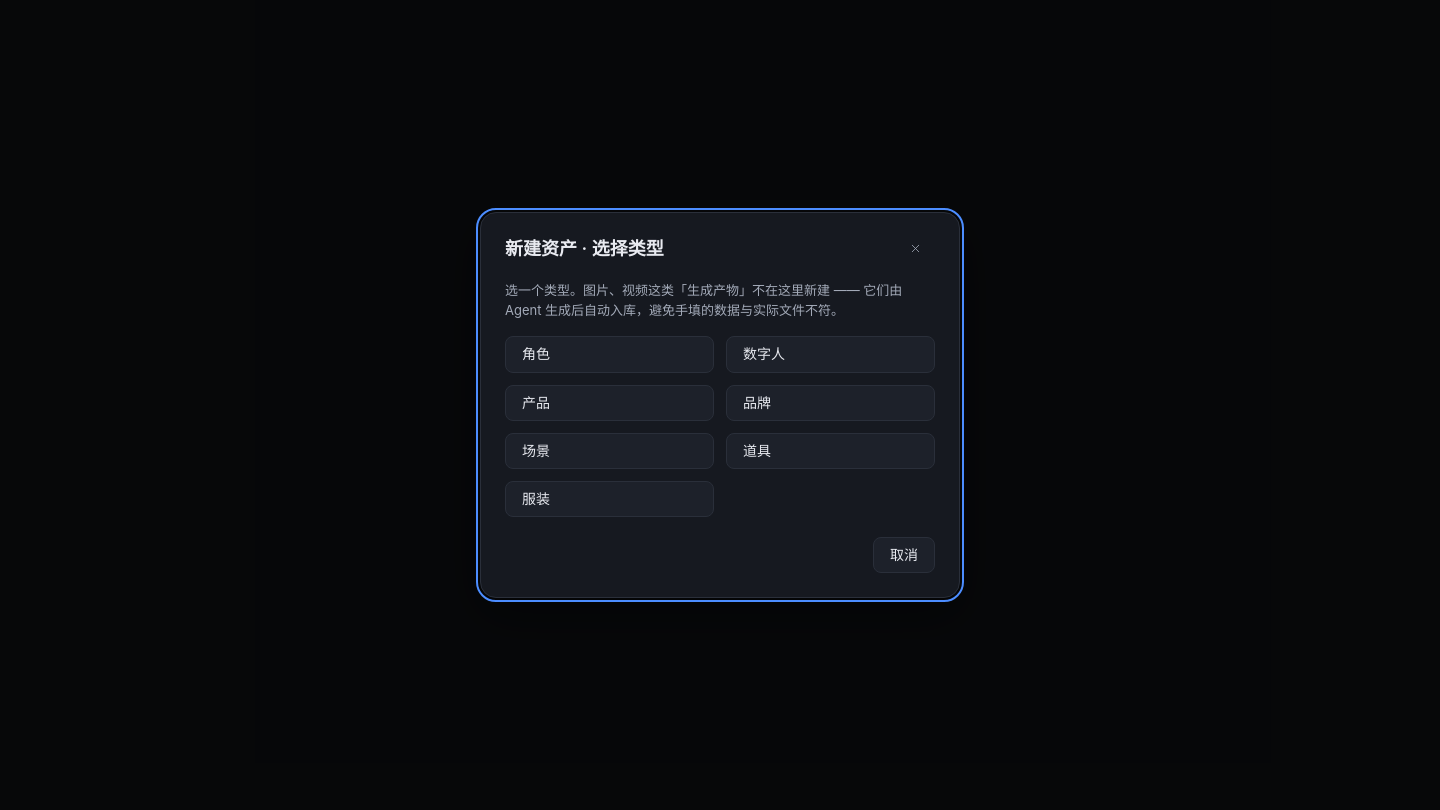
Scenario: AssetCreateDialog 的类型选择 › 选了类型才出现该类型的字段
The image size is (1440, 810).
Check: the field labelled "发型发色" is not shown
Click the button "角色": (610,354) [505,336,714,373]
(page scrolled)
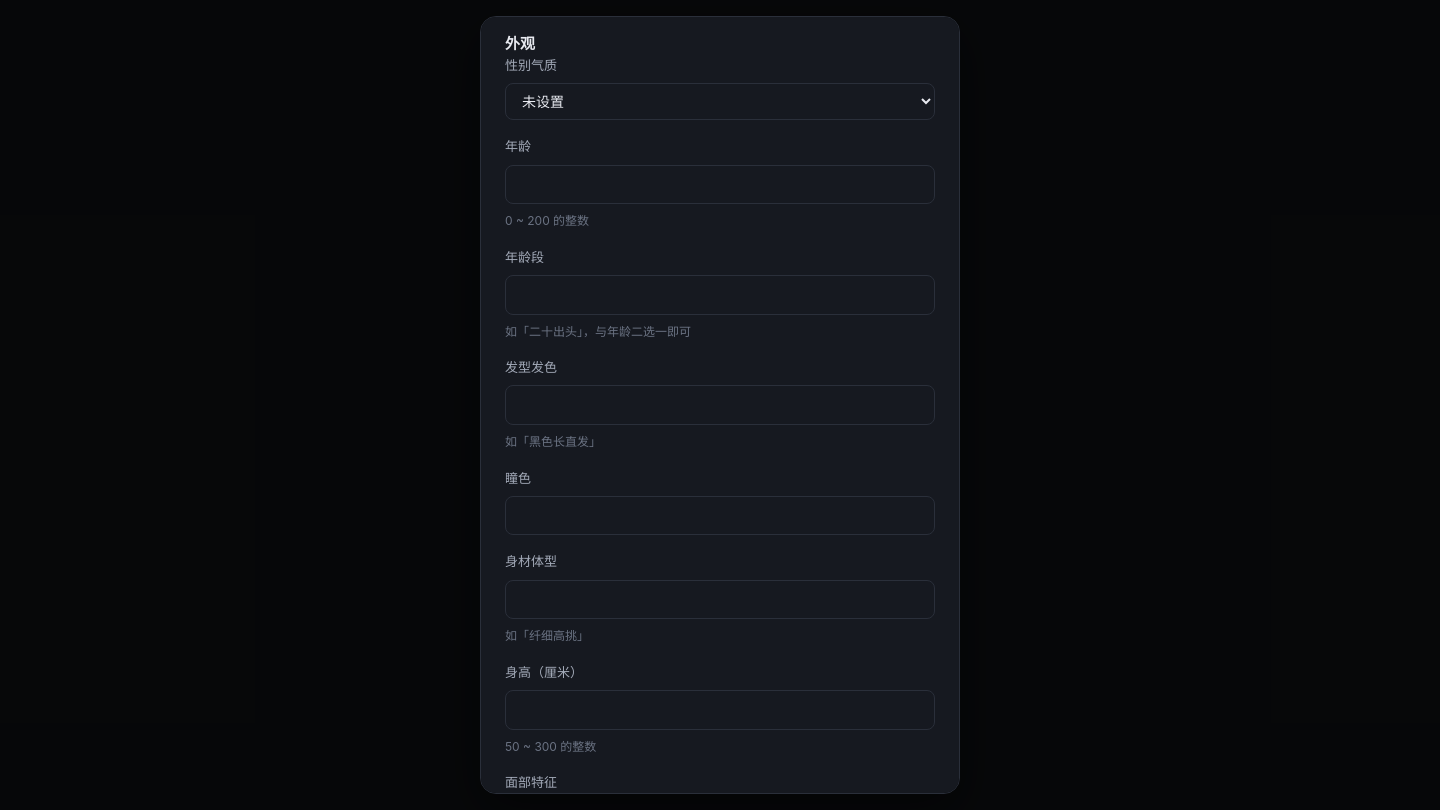
Check: the field labelled "发型发色" is shown, box [505,385,935,425]
